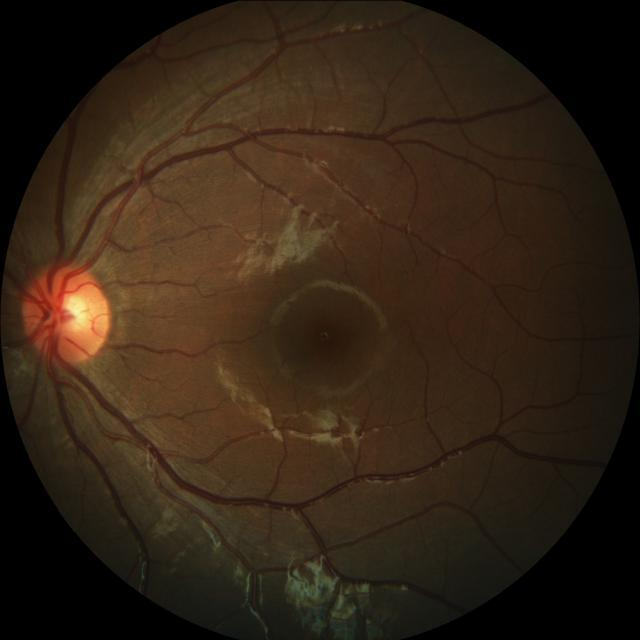OC: (56, 293, 89, 331)
OD: (23, 264, 112, 364)
